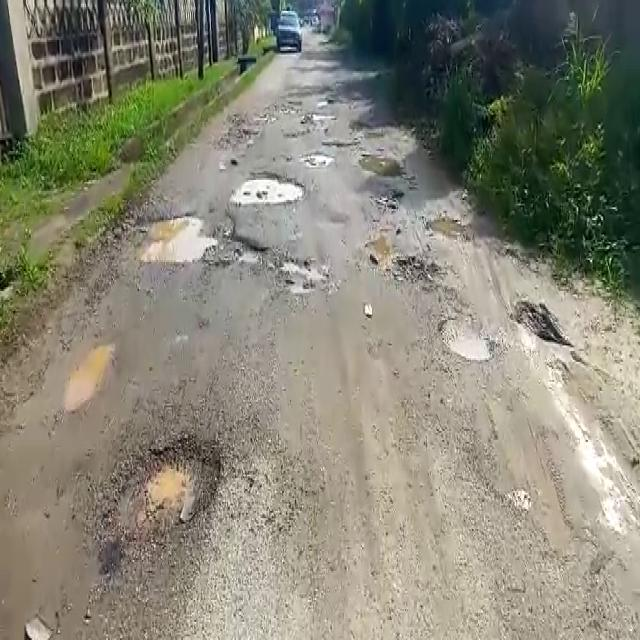Pothole: (132, 437, 228, 539), (132, 211, 245, 263), (438, 313, 498, 362), (229, 170, 307, 203), (273, 258, 328, 299), (301, 150, 335, 165)
